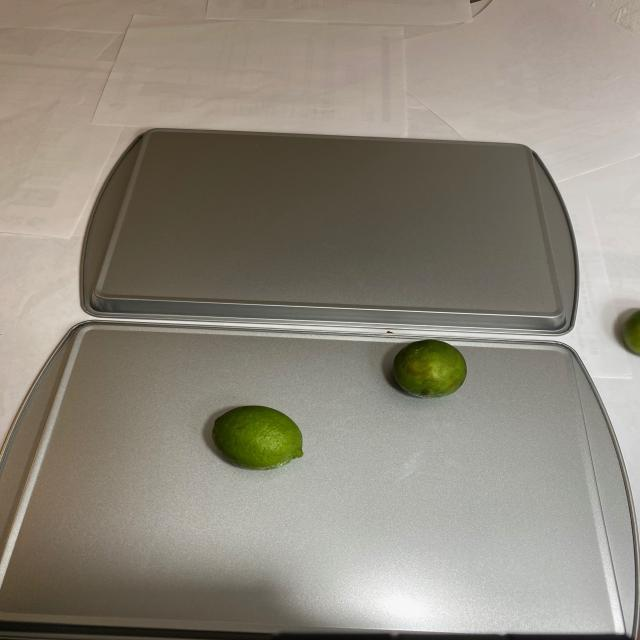lemon: (210, 401, 310, 473), (386, 340, 474, 401)
